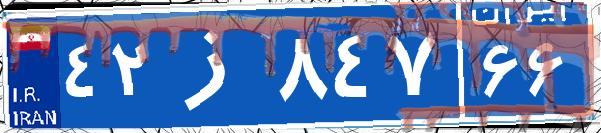2: (110, 28, 158, 105)
4: (330, 28, 385, 110), (57, 26, 110, 107)
6: (475, 38, 525, 113), (525, 38, 570, 115)
7: (385, 28, 445, 110)
8: (273, 28, 330, 110)
ز: (158, 15, 273, 115)
